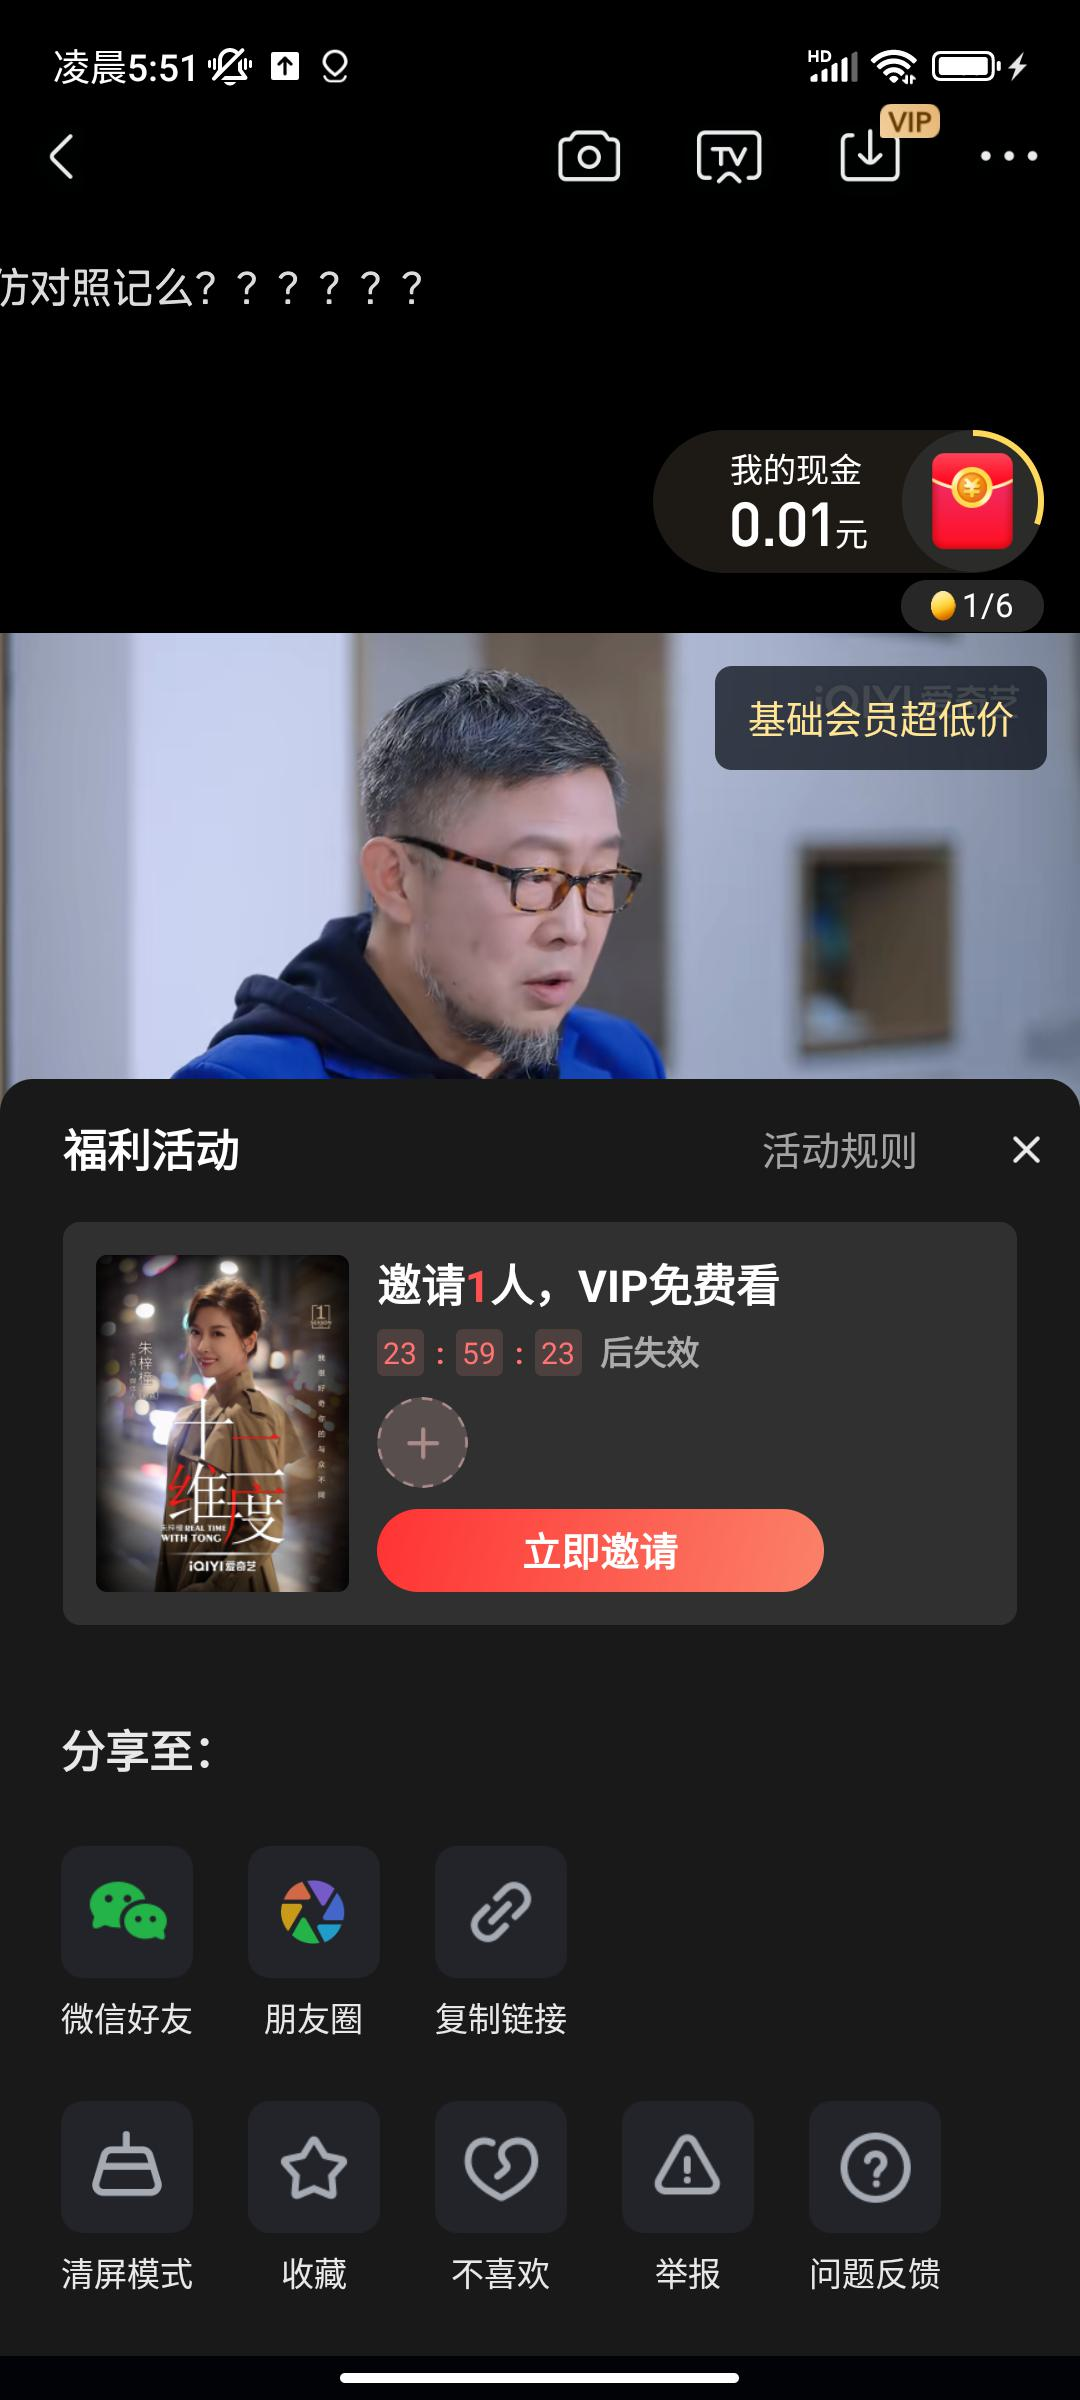ui_group: (63, 1215, 1023, 1624)
